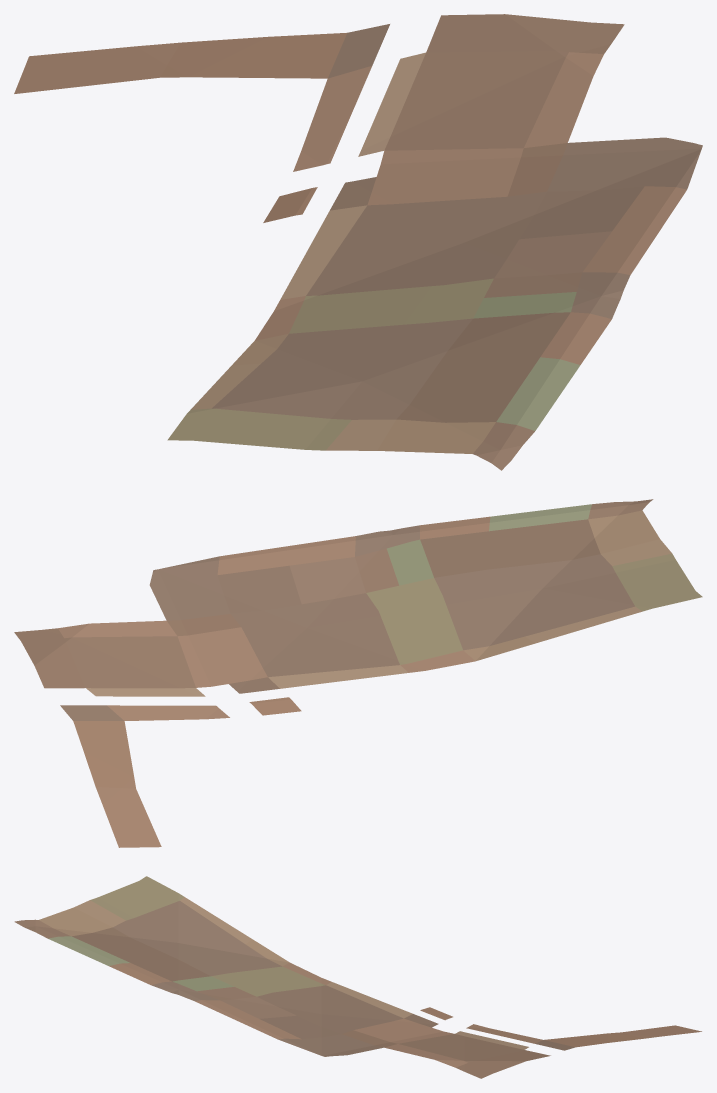
File: farm_-21_-25_soil.glb
3 views of the same model, one above another, from view 1: azimuth 30°, elevation 25°; view 2: azimuth 150°, elevation 25°; view 3: azimuth 270°, elevation 25° (orthographic). The views are drawn at different scales.
Parts seen in each view (by area): view 1: geometry_0; view 2: geometry_0; view 3: geometry_0.
Boxes of the visible parts, x1,y1,x2,y2 form: geometry_0: [14, 14, 702, 470]; geometry_0: [14, 499, 702, 847]; geometry_0: [14, 876, 701, 1078].
Size of the model in its own units: 261 by 41.16 by 385.
